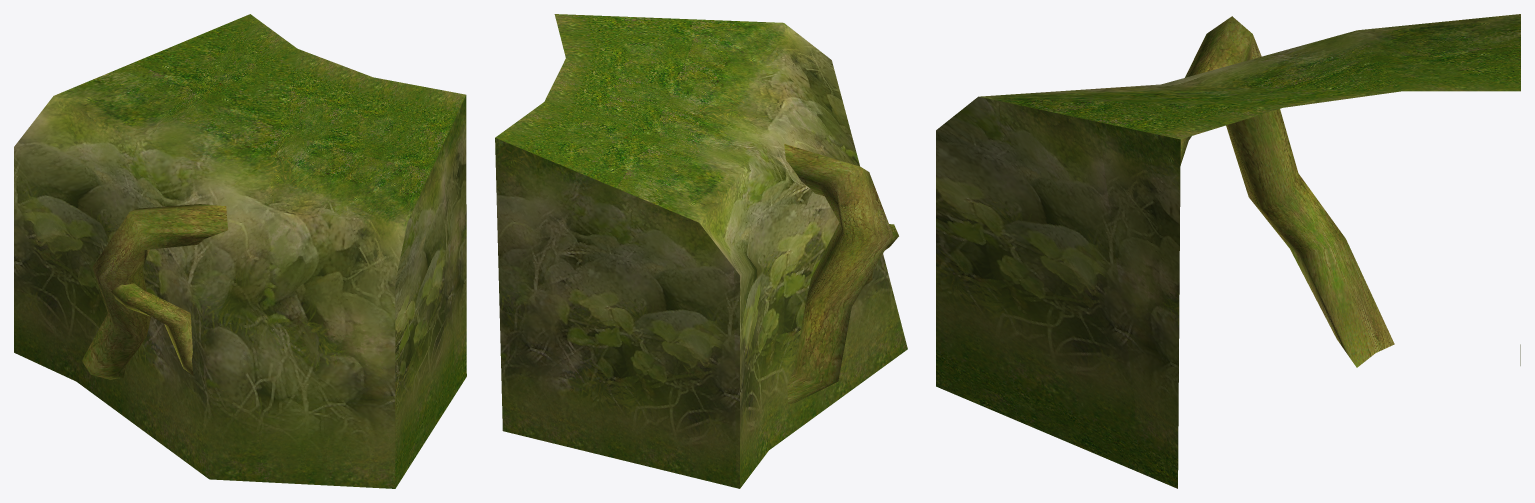
The model's file is n_tilewallD_1.glb.
The picture shows the model from 3 angles, left to right: view 1: azimuth 30°, elevation 25°; view 2: azimuth 150°, elevation 25°; view 3: azimuth 270°, elevation 25°; orthographic projection. The views are drawn at different scales.
Visible parts, largest first — view 1: n_tilewallD_1; view 2: n_tilewallD_1; view 3: n_tilewallD_1.
Boxes of the visible parts, bbox=[...] form: n_tilewallD_1: bbox=[14, 14, 466, 488]; n_tilewallD_1: bbox=[495, 14, 907, 488]; n_tilewallD_1: bbox=[936, 14, 1520, 488].
Bounding box in the file's own units: 4.4 × 3.41 × 5.17.
2 materials, 2 textured.
